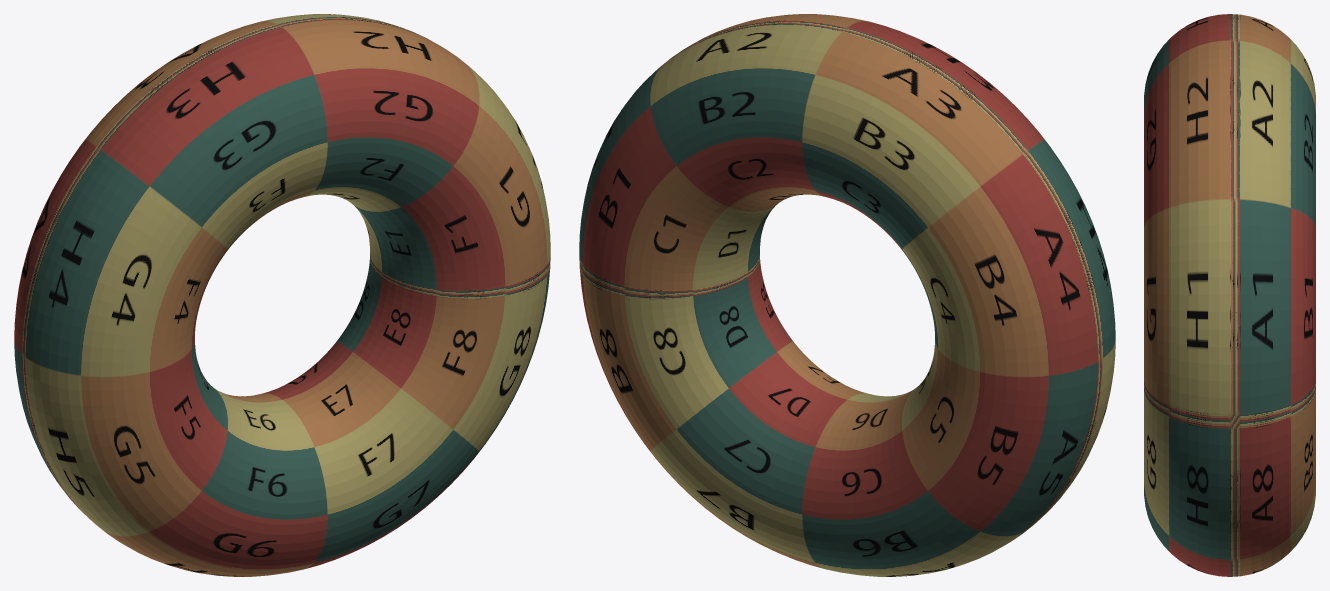
Rendered from texture_torus_R3_r6.glb.
3 renders of one model, left to right at view 1: azimuth 30°, elevation 25°; view 2: azimuth 150°, elevation 25°; view 3: azimuth 270°, elevation 25°, orthographic. The views are drawn at different scales.
Visible parts, largest first — view 1: world; view 2: world; view 3: world.
Boxes of the visible parts, x1,y1,x2,y2 form: world: [14, 14, 550, 576]; world: [579, 14, 1115, 576]; world: [1144, 14, 1315, 576].
Size of the model in its own units: 24 by 24 by 7.32.
Materials: 1 (1 with a texture image).
